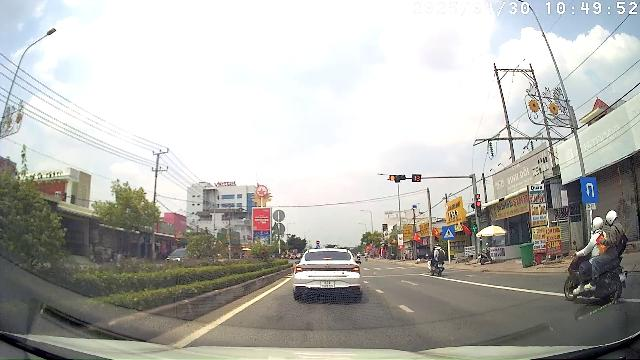423a-duong-nguoi-di-bo-sang-ngang-1: (442, 226, 456, 240)
